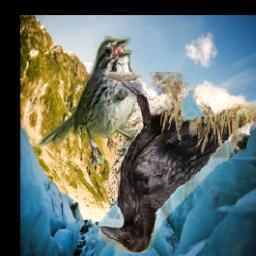Crow: (100, 72, 256, 253)
Sparrow: (38, 36, 148, 166)
